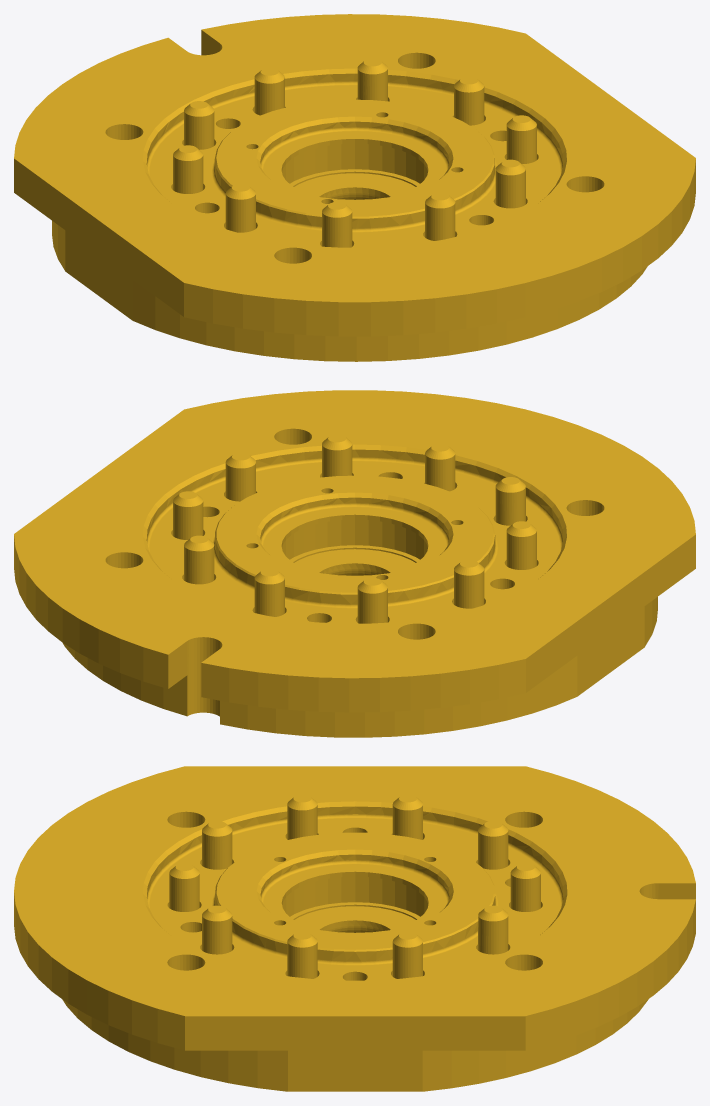
The picture shows the model from 3 angles, top to bottom: view 1: azimuth 30°, elevation 25°; view 2: azimuth 150°, elevation 25°; view 3: azimuth 270°, elevation 25°; orthographic projection.
Parts seen in each view (by area): view 1: link_r_t; view 2: link_r_t; view 3: link_r_t.
Boxes of the visible parts, box(x1,y1,x2,y2) form: link_r_t: box(14, 14, 695, 361); link_r_t: box(14, 390, 695, 737); link_r_t: box(14, 766, 695, 1091).
Size of the model in its own units: 0.078 by 0.0899 by 0.0145.
Materials: 1 (1 with a texture image).
